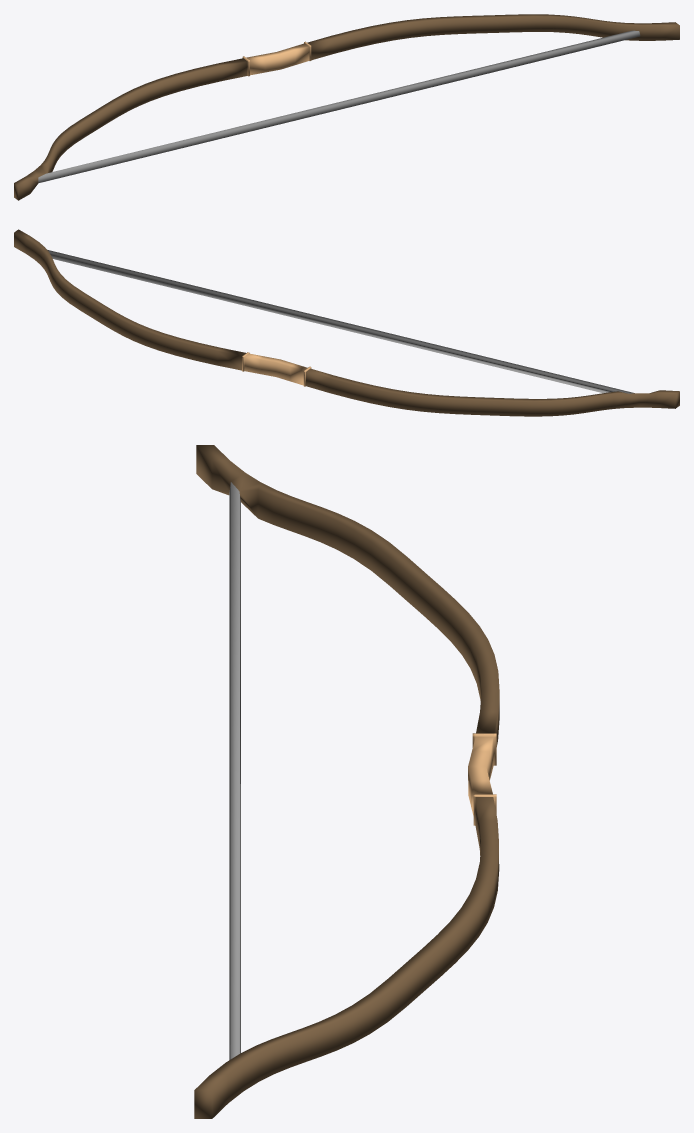
The model's file is Arco.fbx.
The picture shows the model from 3 angles, top to bottom: view 1: azimuth 30°, elevation 25°; view 2: azimuth 150°, elevation 25°; view 3: azimuth 270°, elevation 25°; orthographic projection. The views are drawn at different scales.
Visible parts, largest first — view 1: BezierCurve; view 2: BezierCurve; view 3: BezierCurve.
Part boxes in pixels (box(x1,y1,x2,y2)): BezierCurve: box(14, 14, 679, 200); BezierCurve: box(14, 229, 679, 416); BezierCurve: box(194, 445, 499, 1118).
Size of the model in its own units: 119 by 2.79 by 23.83.
